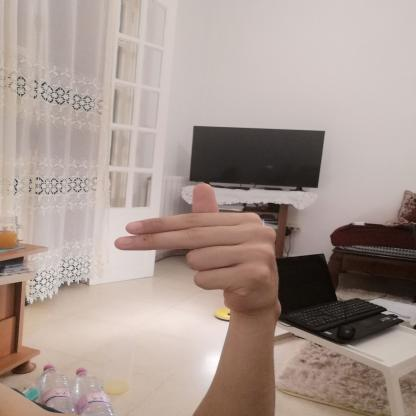GHAYN: (101, 177, 291, 317)
